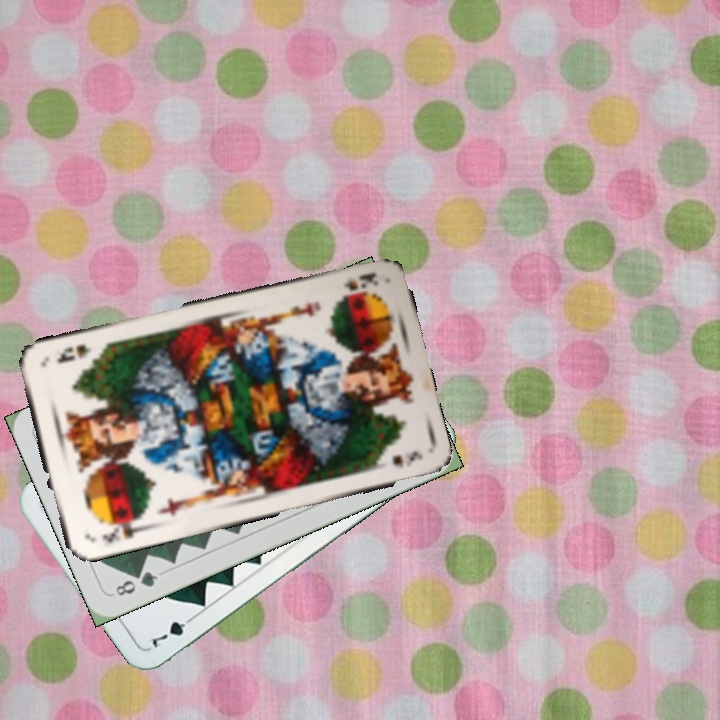G7: (147, 611, 199, 651)
G8: (111, 567, 161, 599)
SK: (98, 513, 146, 546), (337, 268, 381, 299)
